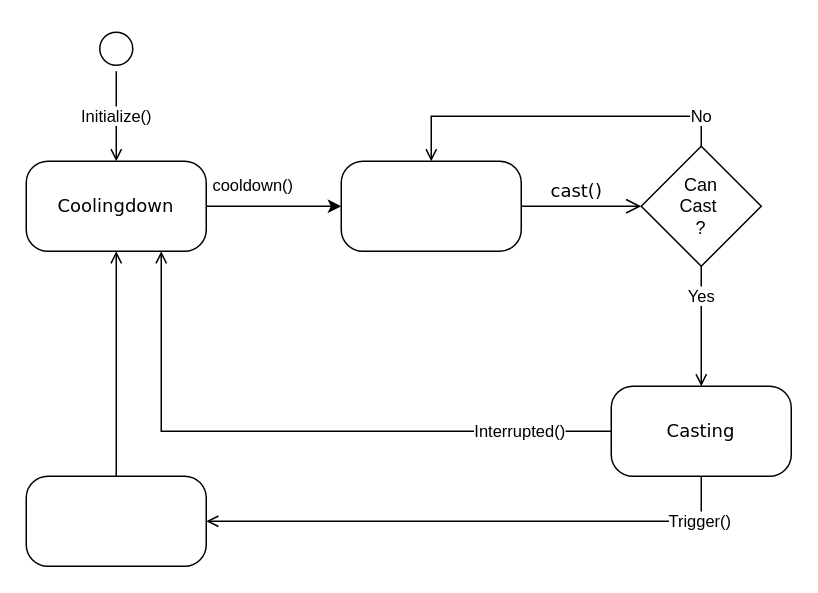
Image size: 818x593. Some labels were removed from this diagram. The shapes that lost their labels are listed below. From the top down, each one's centre as x and y in pixels, then its label:
the point at 430,205: Ready
the point at 115,520: Triggered
